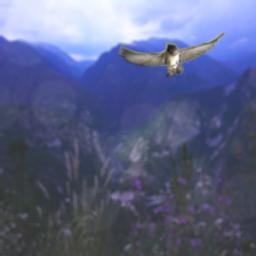Swallow: (118, 31, 226, 77)
